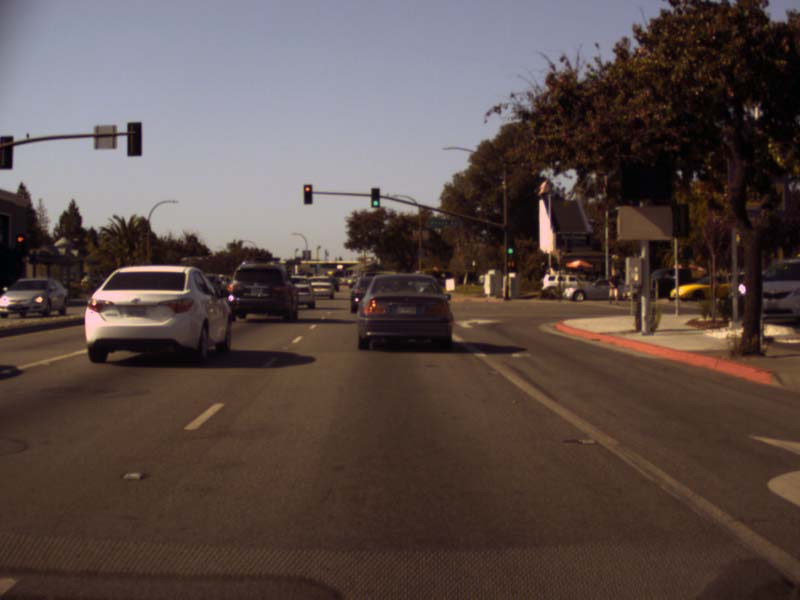Green: (371, 188, 379, 208), (506, 239, 514, 255)
Red: (303, 184, 312, 204), (15, 234, 24, 253)
